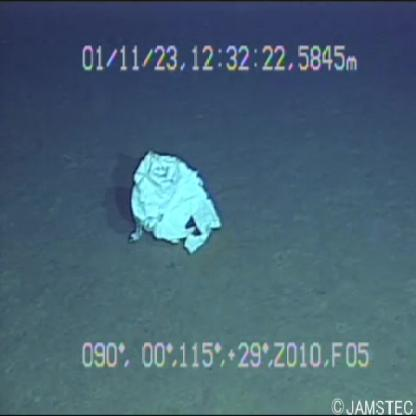Rác: (110, 141, 225, 261)
